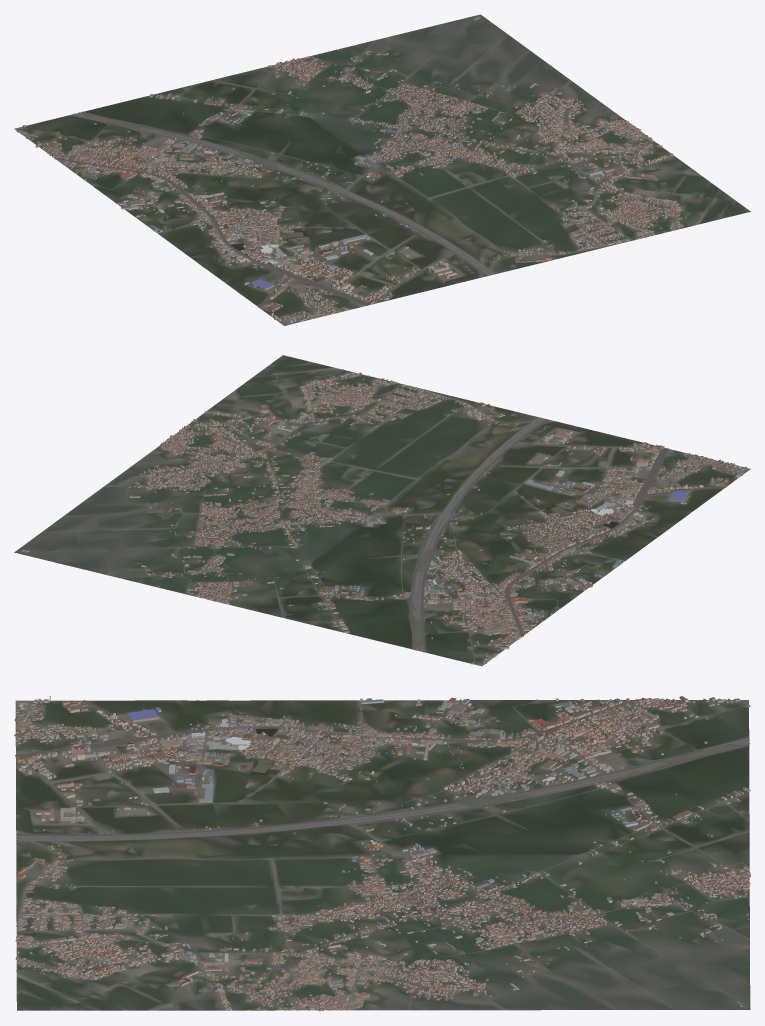
The picture shows the model from 3 angles, top to bottom: view 1: azimuth 30°, elevation 25°; view 2: azimuth 150°, elevation 25°; view 3: azimuth 270°, elevation 25°; orthographic projection. The views are drawn at different scales.
Parts seen in each view (by area): view 1: ground, buildings, roads, water; view 2: ground, buildings, roads, water; view 3: ground, buildings, roads, water.
Part boxes in pixels (left/top/right/bottom): ground: left=14, top=14, right=750, bottom=325; buildings: left=16, top=16, right=691, bottom=324; roads: left=17, top=15, right=676, bottom=325; water: left=147, top=74, right=659, bottom=268; ground: left=14, top=355, right=750, bottom=666; buildings: left=21, top=369, right=747, bottom=664; roads: left=16, top=373, right=750, bottom=664; water: left=142, top=387, right=671, bottom=621; ground: left=15, top=700, right=750, bottom=1010; buildings: left=14, top=696, right=750, bottom=1011; roads: left=15, top=699, right=750, bottom=1010; water: left=35, top=700, right=746, bottom=1003.
Bounding box in the file's own units: 2833 × 30.26 × 2817.
